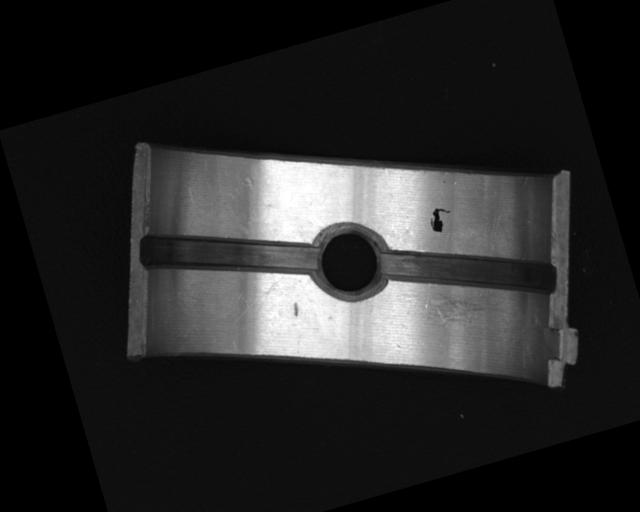blot: (425, 203, 456, 236)
bruise: (289, 301, 301, 318)
gap: (377, 206, 561, 335), (136, 192, 322, 317)
hole: (304, 216, 394, 302)
scratch: (411, 267, 508, 336)
